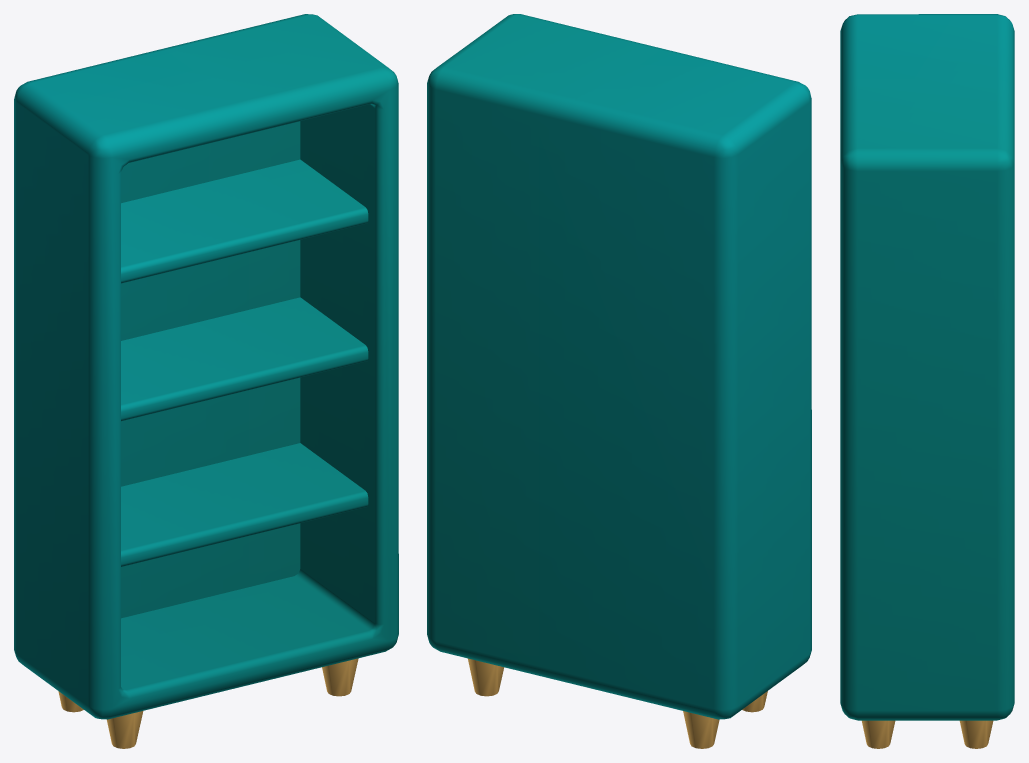
The model's file is Closet_05.glb.
3 views of the same model, side by side, from view 1: azimuth 30°, elevation 25°; view 2: azimuth 150°, elevation 25°; view 3: azimuth 270°, elevation 25° (orthographic). The views are drawn at different scales.
Parts seen in each view (by area): view 1: Closet_05; view 2: Closet_05; view 3: Closet_05.
Boxes of the visible parts, box(x1,y1,x2,y2) form: Closet_05: box(14, 14, 398, 748); Closet_05: box(427, 14, 811, 748); Closet_05: box(840, 14, 1014, 748).
Bounding box in the file's own units: 0.8 × 1.55 × 0.4.
1 material, 1 textured.
